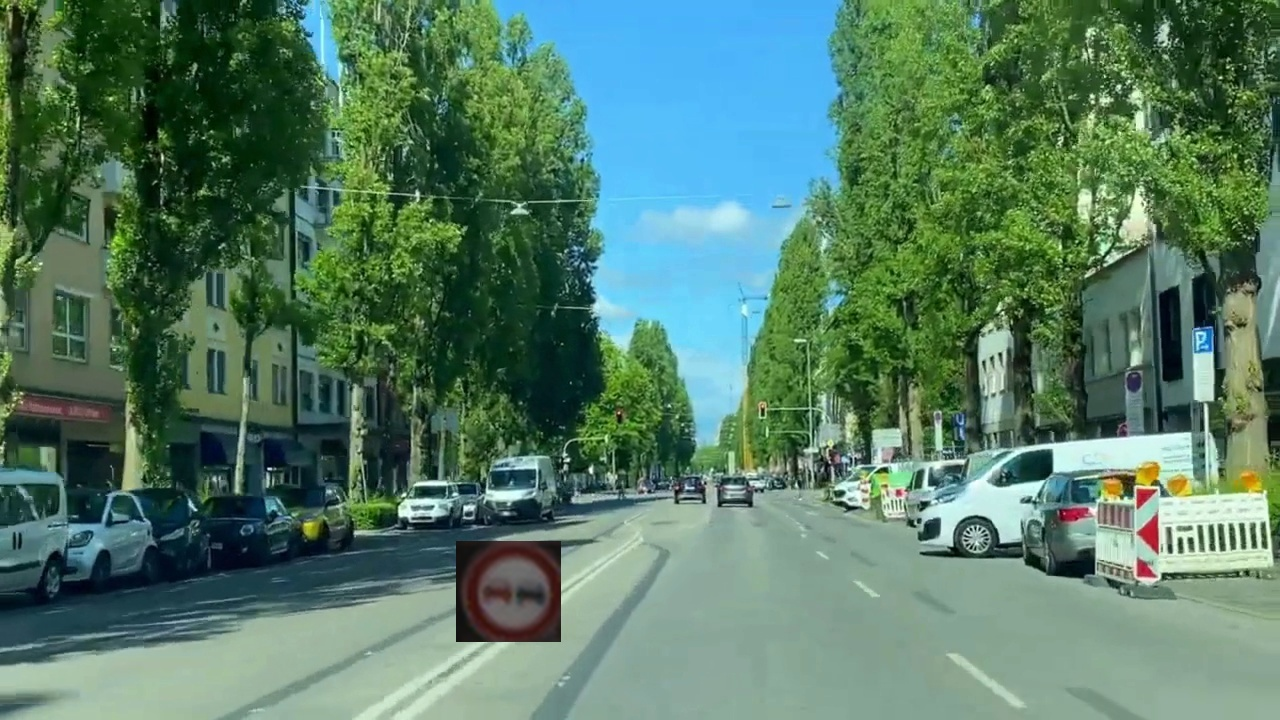No passing: (456, 541, 561, 642)
